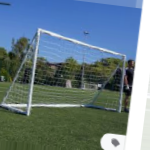goals: (1, 26, 128, 119)
